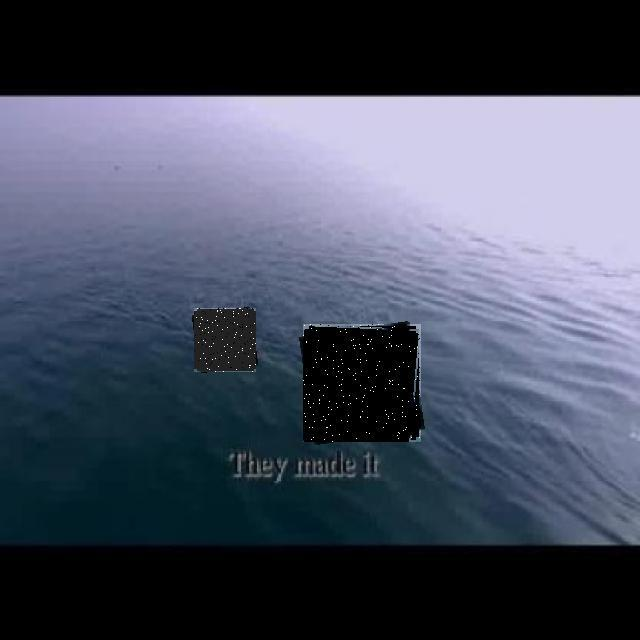swimming: (303, 324, 421, 442), (194, 308, 256, 372)
